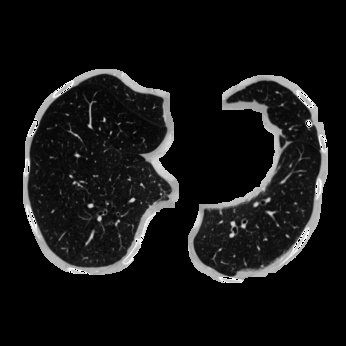PN: (304, 120, 312, 128)
